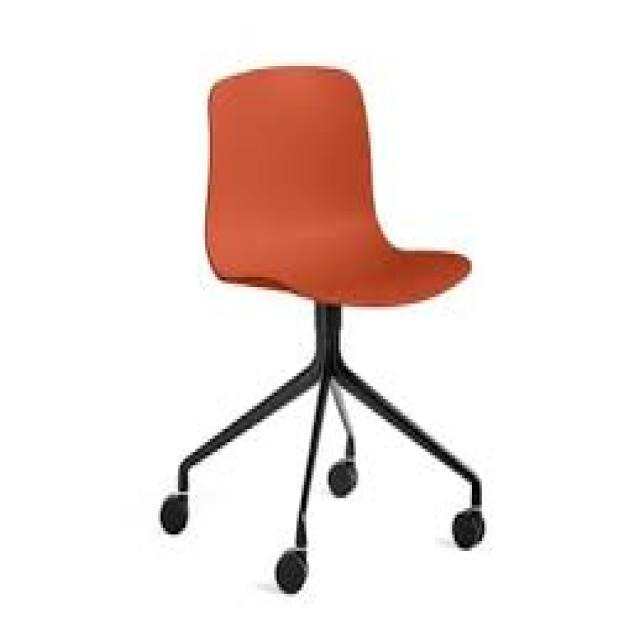chair: (120, 30, 562, 640)
